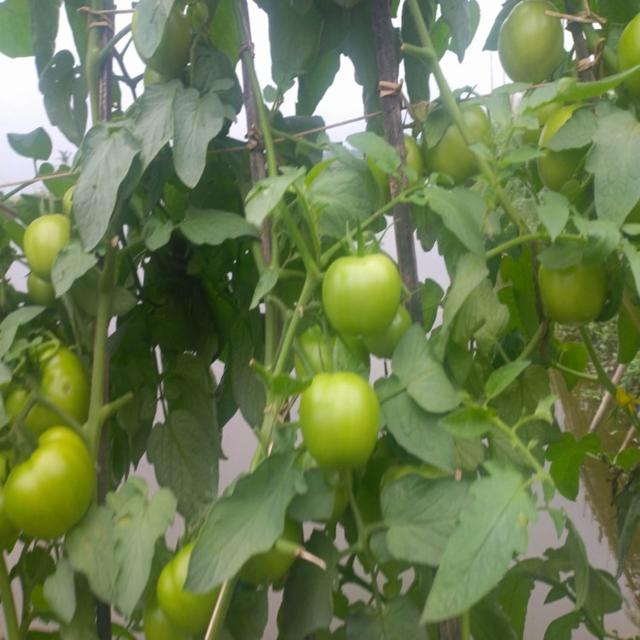tomato: (8, 431, 95, 541), (295, 371, 375, 478), (324, 244, 403, 342), (497, 1, 567, 75), (14, 351, 82, 425), (159, 555, 221, 623), (537, 270, 614, 320), (25, 215, 69, 273), (536, 147, 587, 188), (428, 135, 476, 178), (143, 613, 203, 640), (30, 272, 58, 308), (622, 17, 640, 68)
